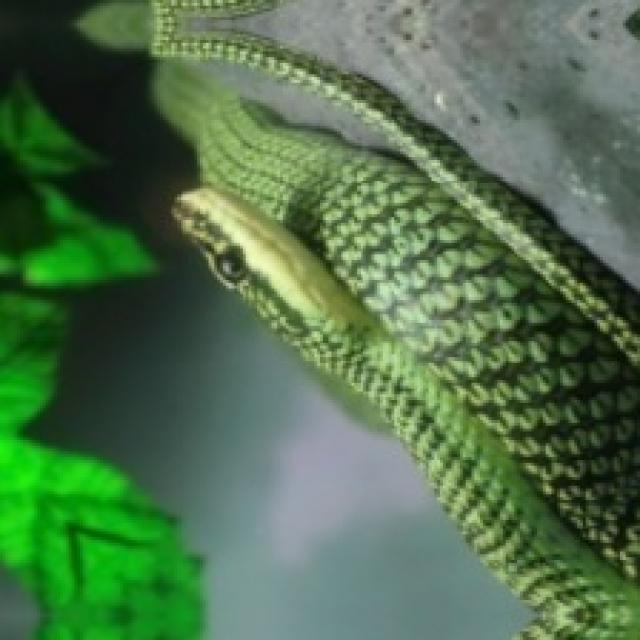paradise tree snake: (151, 0, 637, 637)
